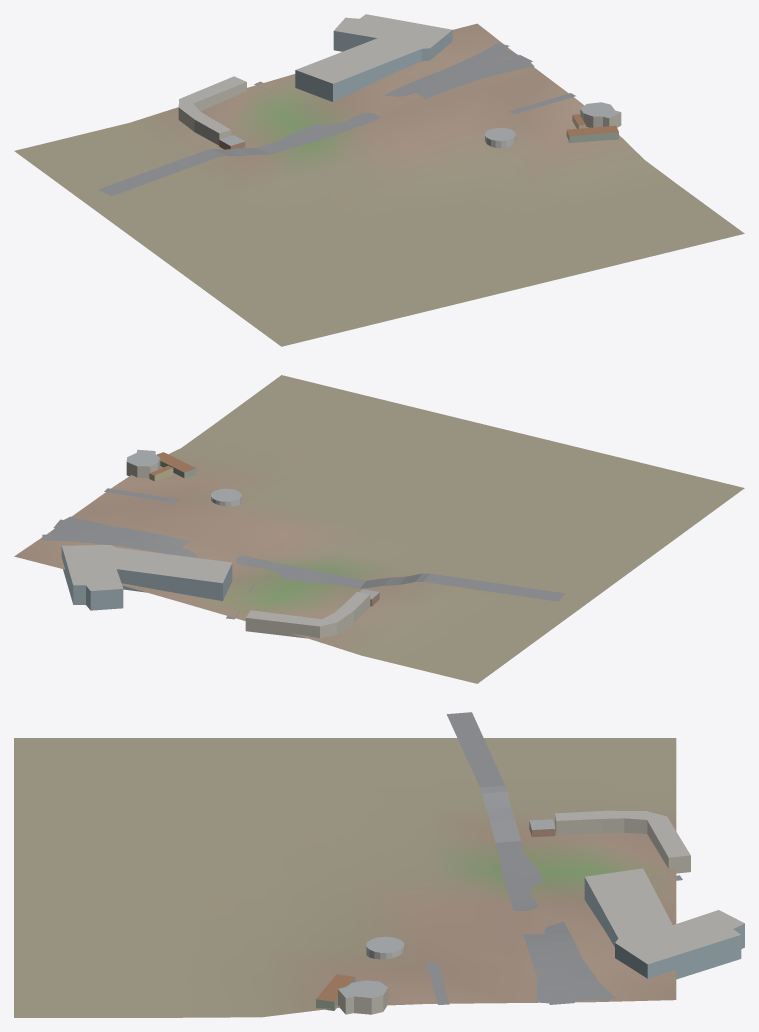
The picture shows the model from 3 angles, top to bottom: view 1: azimuth 30°, elevation 25°; view 2: azimuth 150°, elevation 25°; view 3: azimuth 270°, elevation 25°; orthographic projection. The views are drawn at different scales.
Parts seen in each view (by area): view 1: Lo; view 2: Lo; view 3: Lo.
Part boxes in pixels (<box>): Lo: <box>14,14,744,346</box>; Lo: <box>14,375,744,683</box>; Lo: <box>14,712,744,1017</box>.
Size of the model in its own units: 262 by 13.43 by 282.
